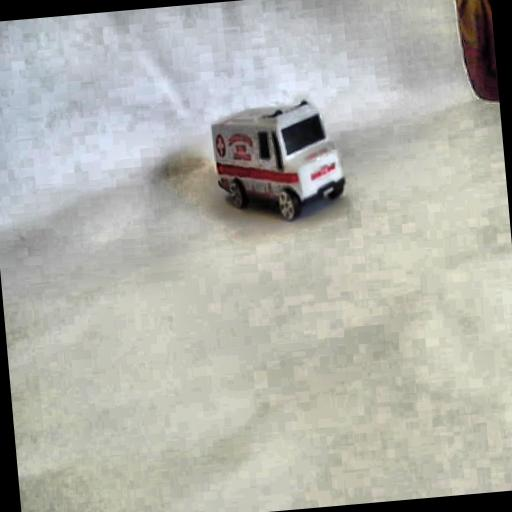ambulance: (209, 96, 348, 226)
